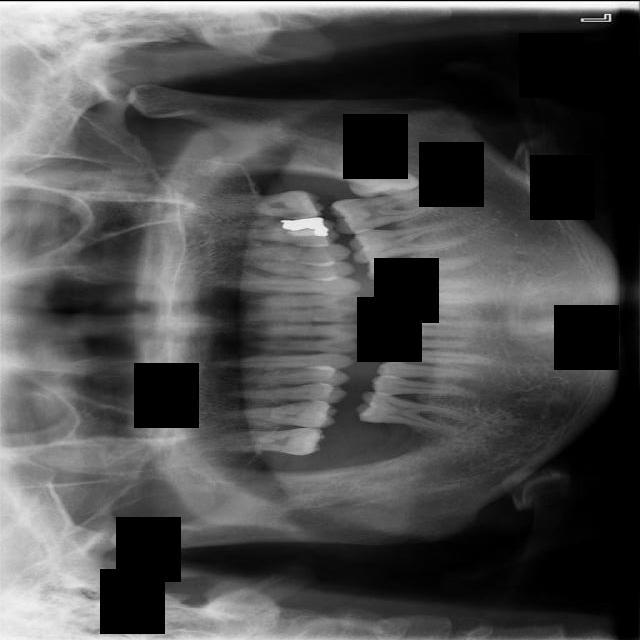52: (284, 218, 336, 247)
73: (587, 14, 603, 20)
Biomet 3i Implant: (332, 150, 420, 199)
Blue Sky Bio Implant: (328, 186, 445, 237), (193, 189, 325, 222)
Implant: (206, 427, 325, 454)
